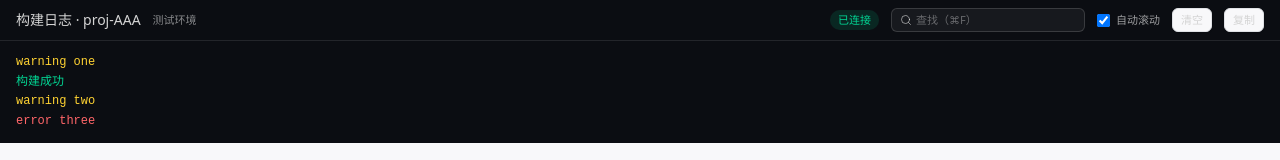
Test: LogView 语法高亮与查找 › 搜索：统计匹配行、高亮命中、Enter 与上/下一个跳转
In the field with test id "log-search": coordinates (996, 20) [916,12,1076,28], type "warning"
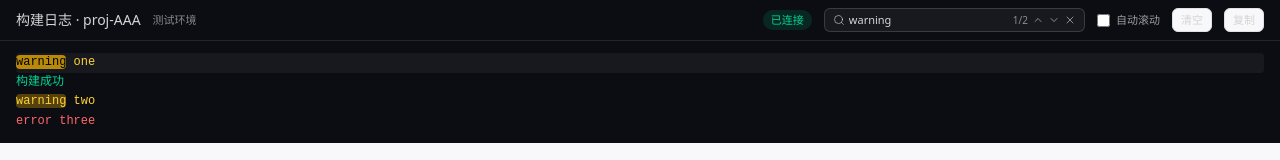
Check: the text "1/2" is shown, box [1013,12,1028,28]
# 下一个 → 2/2
Click the button with test id "search-next": coordinates (1054, 20) [1048,14,1060,26]
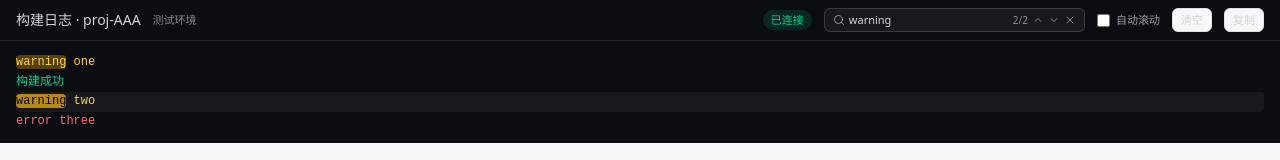
Check: the text "2/2" is shown, box [1013,12,1028,28]
# 再下一个回环到 1/2
Click the button with test id "search-next": coordinates (1054, 20) [1048,14,1060,26]
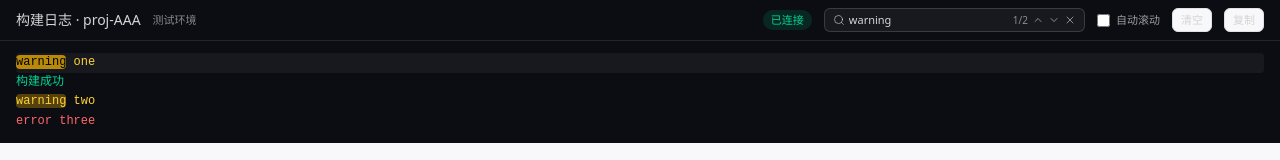
Check: the text "1/2" is shown, box [1013,12,1028,28]
# 上一个从 1 回环到 2
Click the button with test id "search-prev": coordinates (1038, 20) [1032,14,1044,26]
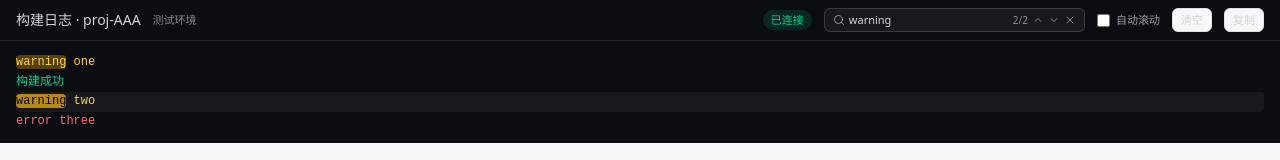
Check: the text "2/2" is shown, box [1013,12,1028,28]
